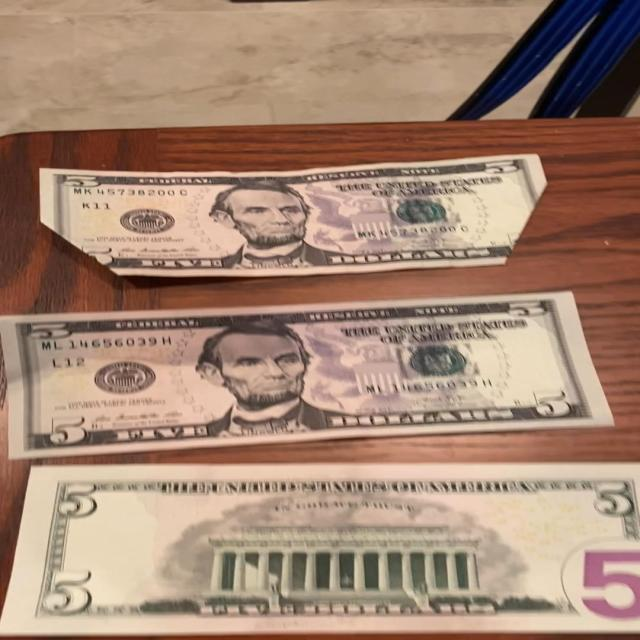5-Back: (0, 460, 640, 640)
5-Front: (0, 287, 622, 466), (26, 151, 560, 275)
